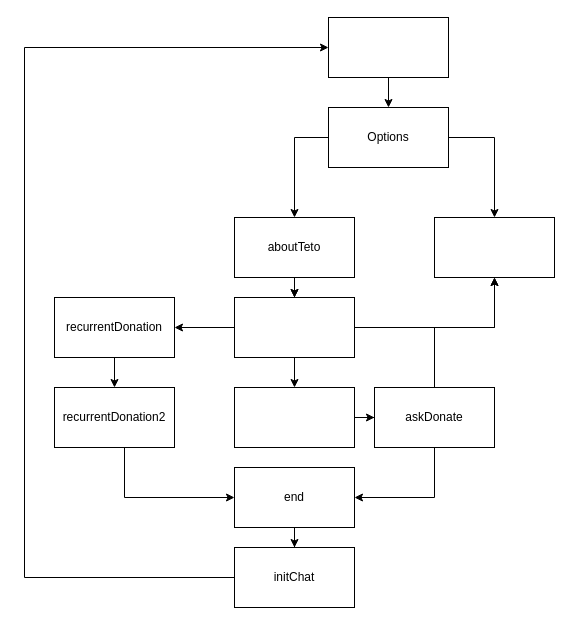
This 572x625 diagram has some shape labels left out. Here are the shapes that lost their labels. From the top down, the box of each, then its label:
(328, 16, 448, 78): Welcome
(434, 216, 554, 278): donation
(234, 296, 354, 358): tetoFriend
(234, 386, 354, 448): whyDonate
